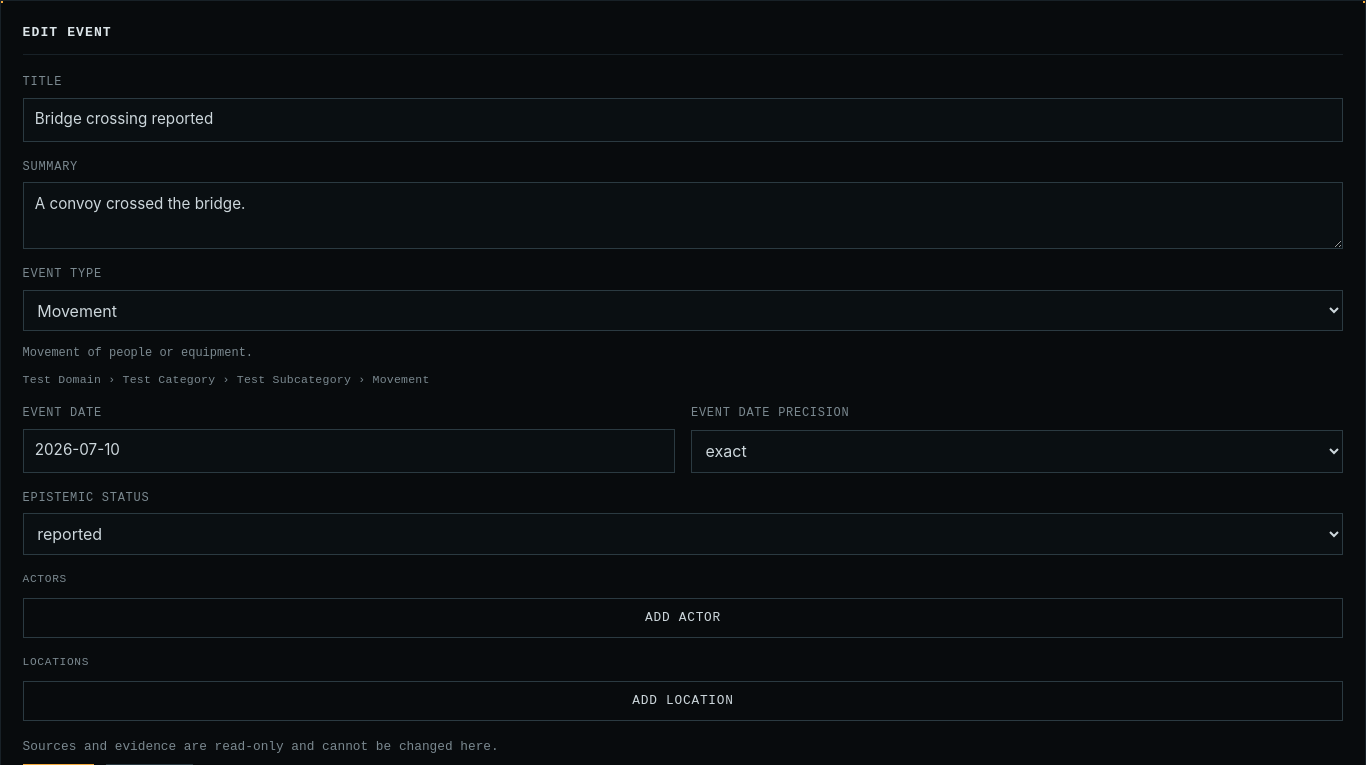
Test: EventEditor type selection › updates the definition when the event type changes
Select "Protest" in the dropdown labelled "Event type": x=683, y=311 [23,290,1343,331]
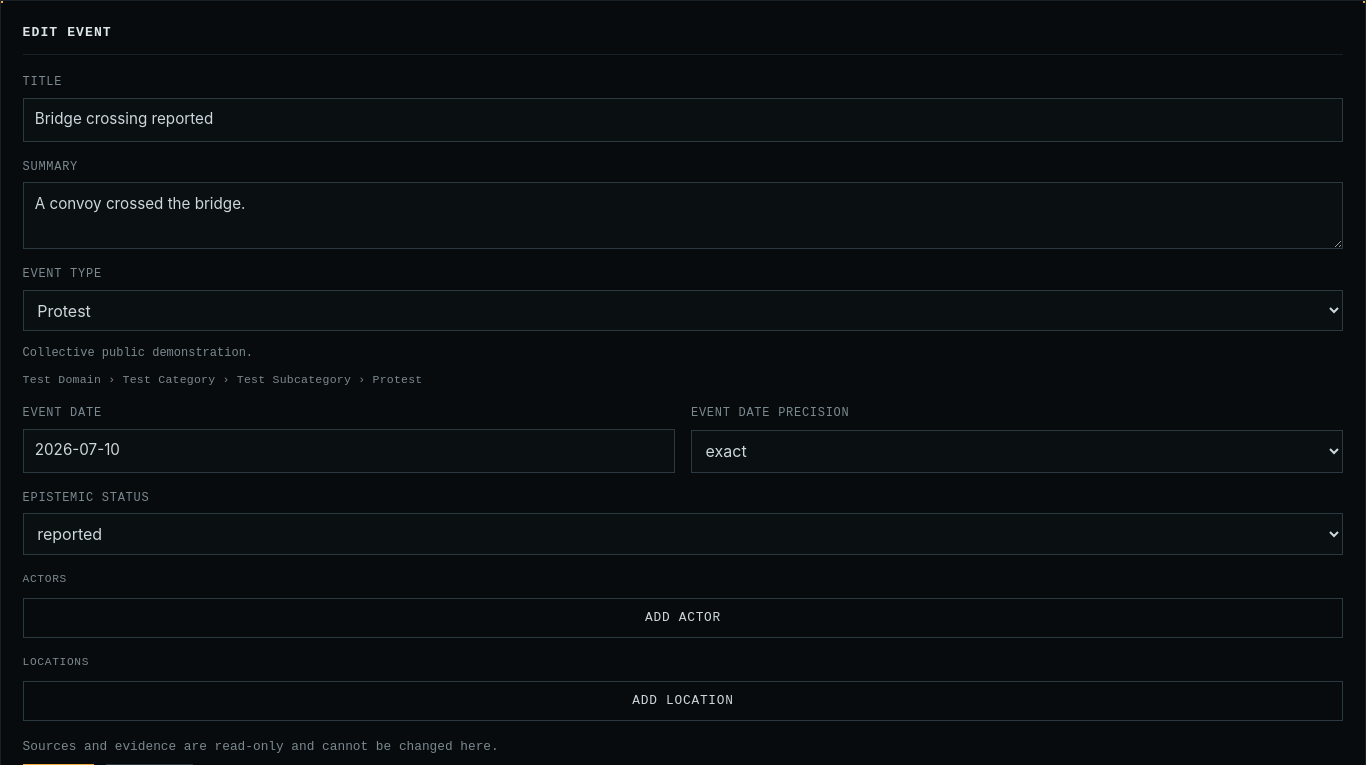
Expected: the field labelled "Event date" is shown, [23,429,675,473]
Result: the text "Collective public demonstration." is shown at [23,346,253,360]
